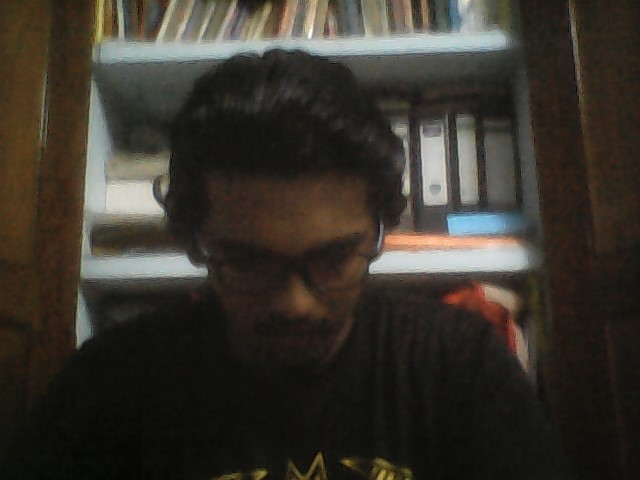person: (101, 46, 498, 465)
